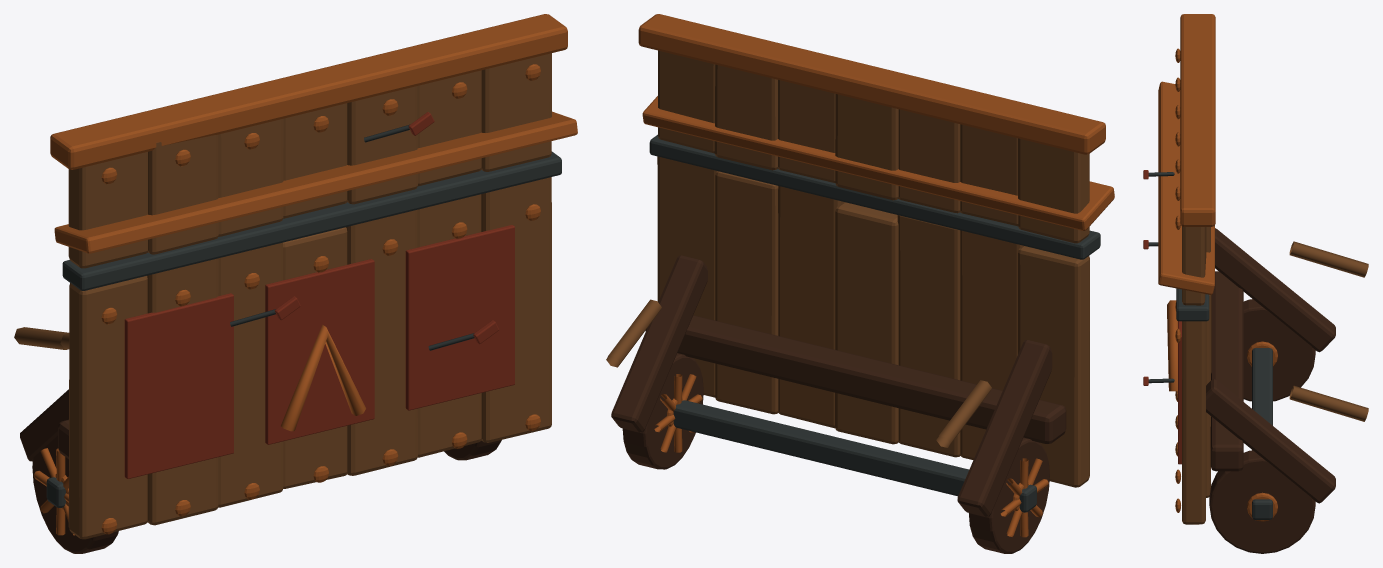
The model's file is mantlet_archer_LOD0.glb.
3 views of the same model, side by side, from view 1: azimuth 30°, elevation 25°; view 2: azimuth 150°, elevation 25°; view 3: azimuth 270°, elevation 25° (orthographic). The views are drawn at different scales.
Visible parts, largest first — view 1: MantletTopCap, MantletRawhidePanel, MantletRawhidePanel.002, MantletLowerBoard, MantletRawhidePanel.001, MantletRainHood, MantletLowerBoard.006, MantletLowerBoard.004, MantletArrowRest, MantletLowerBoard.002, MantletLowerBoard.001, MantletUpperBoard (+13 smaller); view 2: MantletTopCap, MantletRearCrossbeam, MantletLowerBoard.003, MantletLowerBoard.005, MantletLowerBoard, MantletLowerBoard.002, MantletLowerBoard.004, MantletAxle, MantletLowerBoard.001, MantletRainHood, MantletArrowRest, MantletLowerBoard.006 (+13 smaller); view 3: MantletTopCap, MantletWheel.001, MantletRainHood, MantletRearBrace.001, MantletRearCrossbeam, MantletLowerBoard.006, MantletRearBrace, MantletWheel, MantletAxle, MantletUpperBoard.006, MantletPushHandle, MantletPushHandle.001 (+5 smaller).
Part boxes in pixels (box(x1,y1,x2,y2)): MantletTopCap: box(50, 14, 567, 169); MantletRawhidePanel: box(124, 293, 233, 478); MantletRawhidePanel.002: box(405, 225, 514, 410); MantletLowerBoard: box(68, 276, 147, 539); MantletRawhidePanel.001: box(265, 259, 374, 444); MantletRainHood: box(54, 111, 577, 253); MantletLowerBoard.006: box(481, 177, 551, 442); MantletLowerBoard.004: box(346, 210, 417, 475); MantletArrowRest: box(62, 151, 561, 290); MantletLowerBoard.002: box(218, 242, 283, 507); MantletLowerBoard.001: box(147, 258, 218, 525); MantletUpperBoard: box(68, 152, 148, 268); MantletTopCap: box(638, 14, 1105, 154); MantletRearCrossbeam: box(645, 315, 1066, 443); MantletLowerBoard.003: box(835, 202, 898, 444); MantletLowerBoard.005: box(715, 171, 778, 414); MantletLowerBoard: box(1018, 245, 1089, 487); MantletLowerBoard.002: box(897, 215, 960, 457); MantletLowerBoard.004: box(778, 186, 844, 428); MantletAxle: box(673, 400, 1036, 512); MantletLowerBoard.001: box(960, 230, 1022, 459); MantletRainHood: box(642, 96, 1114, 230); MantletArrowRest: box(649, 134, 1100, 259); MantletLowerBoard.006: box(657, 156, 716, 397); MantletTopCap: box(1180, 14, 1215, 226); MantletWheel.001: box(1209, 450, 1315, 553); MantletRainHood: box(1158, 81, 1214, 294); MantletRearBrace.001: box(1206, 379, 1335, 503); MantletRearCrossbeam: box(1210, 271, 1243, 471); MantletLowerBoard.006: box(1182, 321, 1205, 524); MantletRearBrace: box(1215, 228, 1335, 352); MantletWheel: box(1243, 299, 1315, 401); MantletAxle: box(1252, 348, 1272, 519); MantletUpperBoard.006: box(1182, 226, 1206, 305); MantletPushHandle: box(1289, 241, 1368, 277); MantletPushHandle.001: box(1289, 385, 1368, 421).
Bounding box in the file's own units: 2.24 × 1.93 × 1.08.
